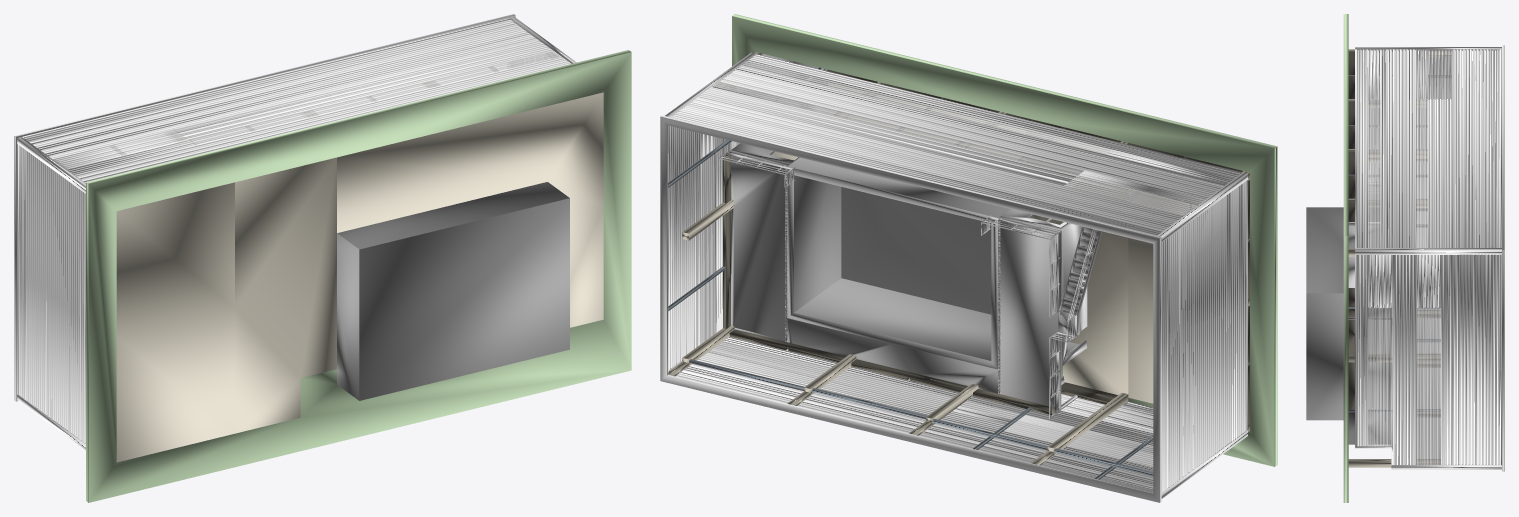
File: full_cirtesu_visual.obj
3 renders of one model, left to right at view 1: azimuth 30°, elevation 25°; view 2: azimuth 150°, elevation 25°; view 3: azimuth 270°, elevation 25°, orthographic. The views are drawn at different scales.
Parts seen in each view (by area): view 1: visual; view 2: visual; view 3: visual.
Part boxes in pixels (x1,y1,x2,y2): visual: (14, 14, 631, 502); visual: (660, 14, 1277, 502); visual: (1306, 14, 1504, 502).
Bounding box in the file's own units: 33 × 18.5 × 12.46.
